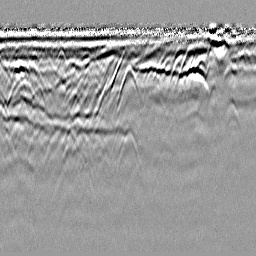cavity: (115, 64, 141, 111)
